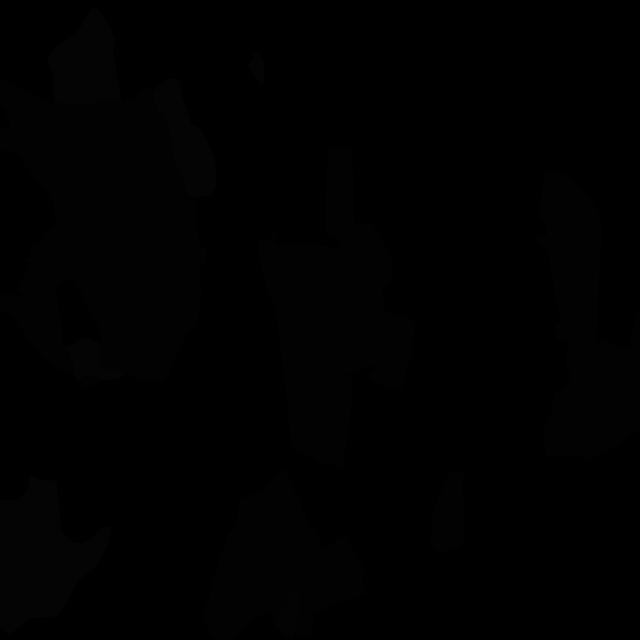cardboard: (0, 77, 206, 383), (258, 146, 416, 471), (203, 467, 306, 640), (537, 172, 602, 431), (544, 307, 640, 459), (0, 223, 75, 376), (315, 535, 367, 614), (296, 518, 324, 638), (430, 472, 465, 553), (78, 376, 106, 388)
metal: (276, 591, 301, 638)
soft_plastic: (0, 474, 112, 635), (154, 77, 216, 198), (47, 6, 121, 105), (64, 337, 126, 384), (247, 52, 264, 87)
